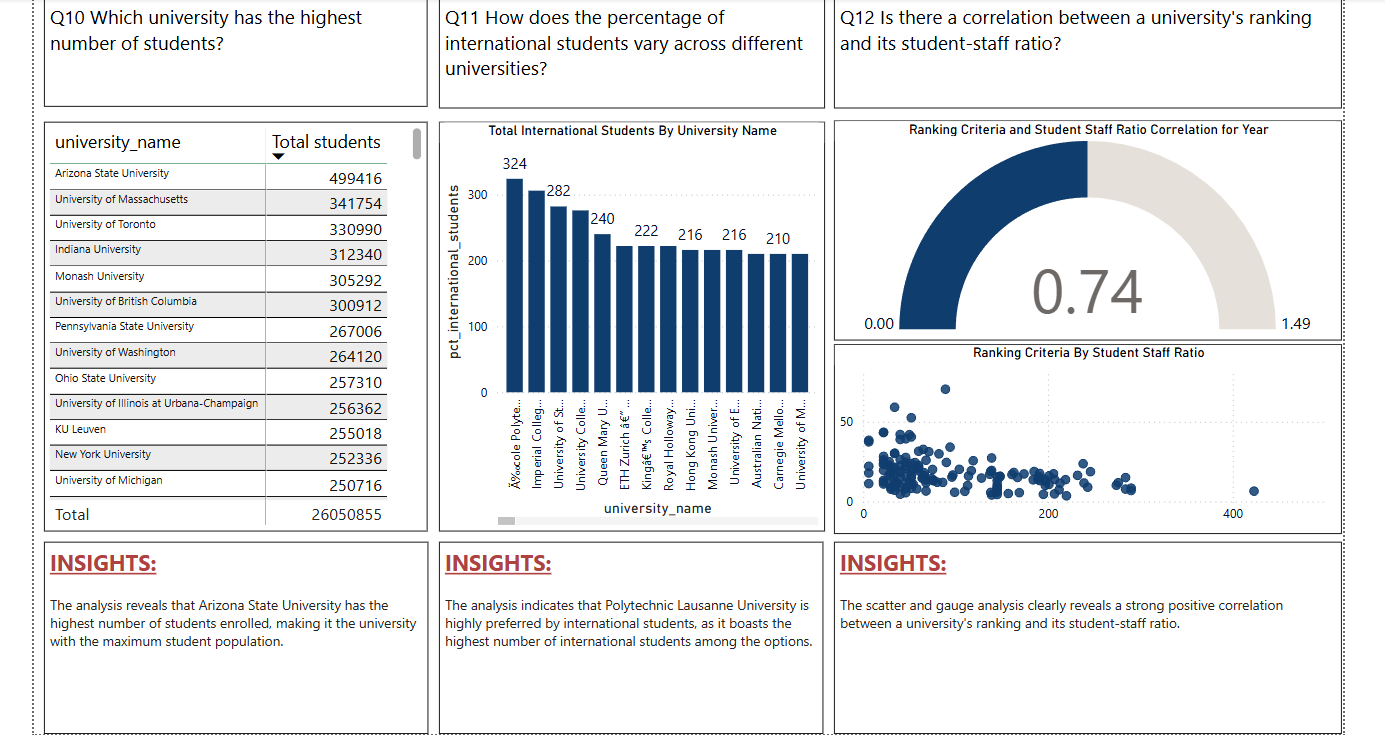

What the dashboard file says about the page in this screenshot:
{"tool":"powerbi","page":{"name":" Que 10,11,12","canvas":[1280,720],"ordinal":7},"visuals":[{"type":"textbox","box":[10.1,0,375.6,106.1],"z":0},{"type":"pivotTable","fields":{"Rows":["university.university_name"],"Values":["Sum(university_year.num_students)"]},"box":[10.1,121.3,375.6,400.8],"z":1000},{"type":"textbox","box":[10,532,376,188],"z":2000},{"type":"columnChart","title":"Total International Students By University Name","fields":{"Category":["university.university_name"],"Y":["Sum(university_year.pct_international_students)"]},"box":[395.8,121.3,377.3,400.8],"z":3000},{"type":"textbox","box":[396,532,376,188],"z":4000},{"type":"textbox","box":[395.8,0,377.3,107.8],"z":5000},{"type":"textbox","box":[782.6,531.9,496.5,188.3],"z":6000},{"type":"textbox","box":[783.2,0,496.8,107.8],"z":7000},{"type":"gauge","title":" Ranking Criteria and Student Staff Ratio Correlation for Year","fields":{"Y":["country.Count of ranking_criteria_id and student_staff_ratio correlation for year"]},"box":[783.2,119.6,496.8,215.6],"z":8000},{"type":"scatterChart","title":" Ranking Criteria By Student Staff Ratio","fields":{"X":["CountNonNull(university_ranking_year.ranking_criteria_id)"],"Y":["university_year.student_staff_ratio"]},"box":[783.2,338.5,496.8,185.3],"z":9000}]}

Visuals, with their boxes on the page's 1280x720 design canvas (x1, y1, x2, y2). These are canvas units, not pixel positions in the 1385x737 screenshot, which may show the page scaled, cropped or inside an application window:
textbox: [10, 0, 386, 106]
pivotTable - university.university_name x Sum(university_year.num_students): [10, 121, 386, 522]
textbox: [10, 532, 386, 720]
"Total International Students By University Name" columnChart: [396, 121, 773, 522]
textbox: [396, 532, 772, 720]
textbox: [396, 0, 773, 108]
textbox: [783, 532, 1279, 720]
textbox: [783, 0, 1280, 108]
" Ranking Criteria and Student Staff Ratio Correlation for Year" gauge: [783, 120, 1280, 335]
" Ranking Criteria By Student Staff Ratio" scatterChart: [783, 338, 1280, 524]
